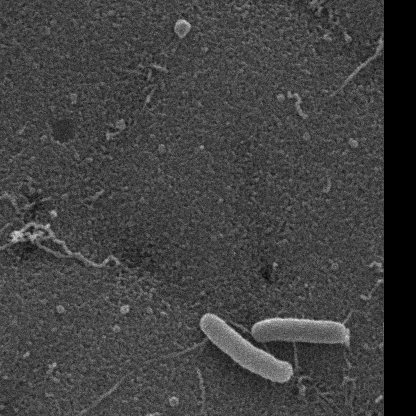cell2surface: (135, 340, 210, 376), (224, 319, 252, 336), (291, 342, 298, 372)
regular: (201, 314, 294, 383), (252, 320, 352, 345)
